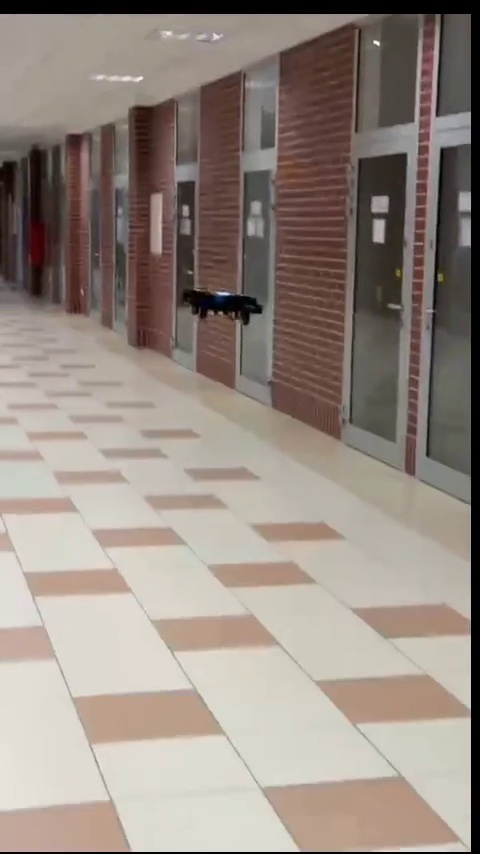drone: (182, 285, 268, 327)
